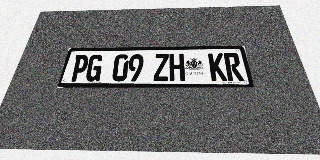0: (111, 54, 129, 81)
9: (127, 54, 144, 81)
G: (84, 54, 104, 81)
H: (169, 54, 185, 81)
K: (208, 53, 227, 81)
P: (69, 55, 90, 82)
R: (223, 53, 244, 81)
Z: (153, 54, 169, 81)
